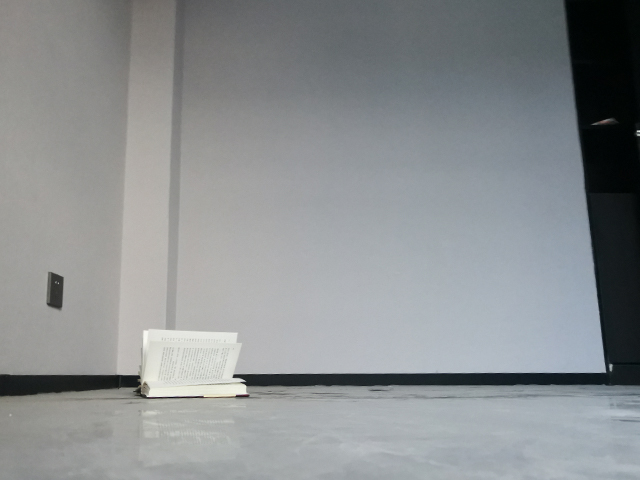book: (130, 327, 250, 401)
